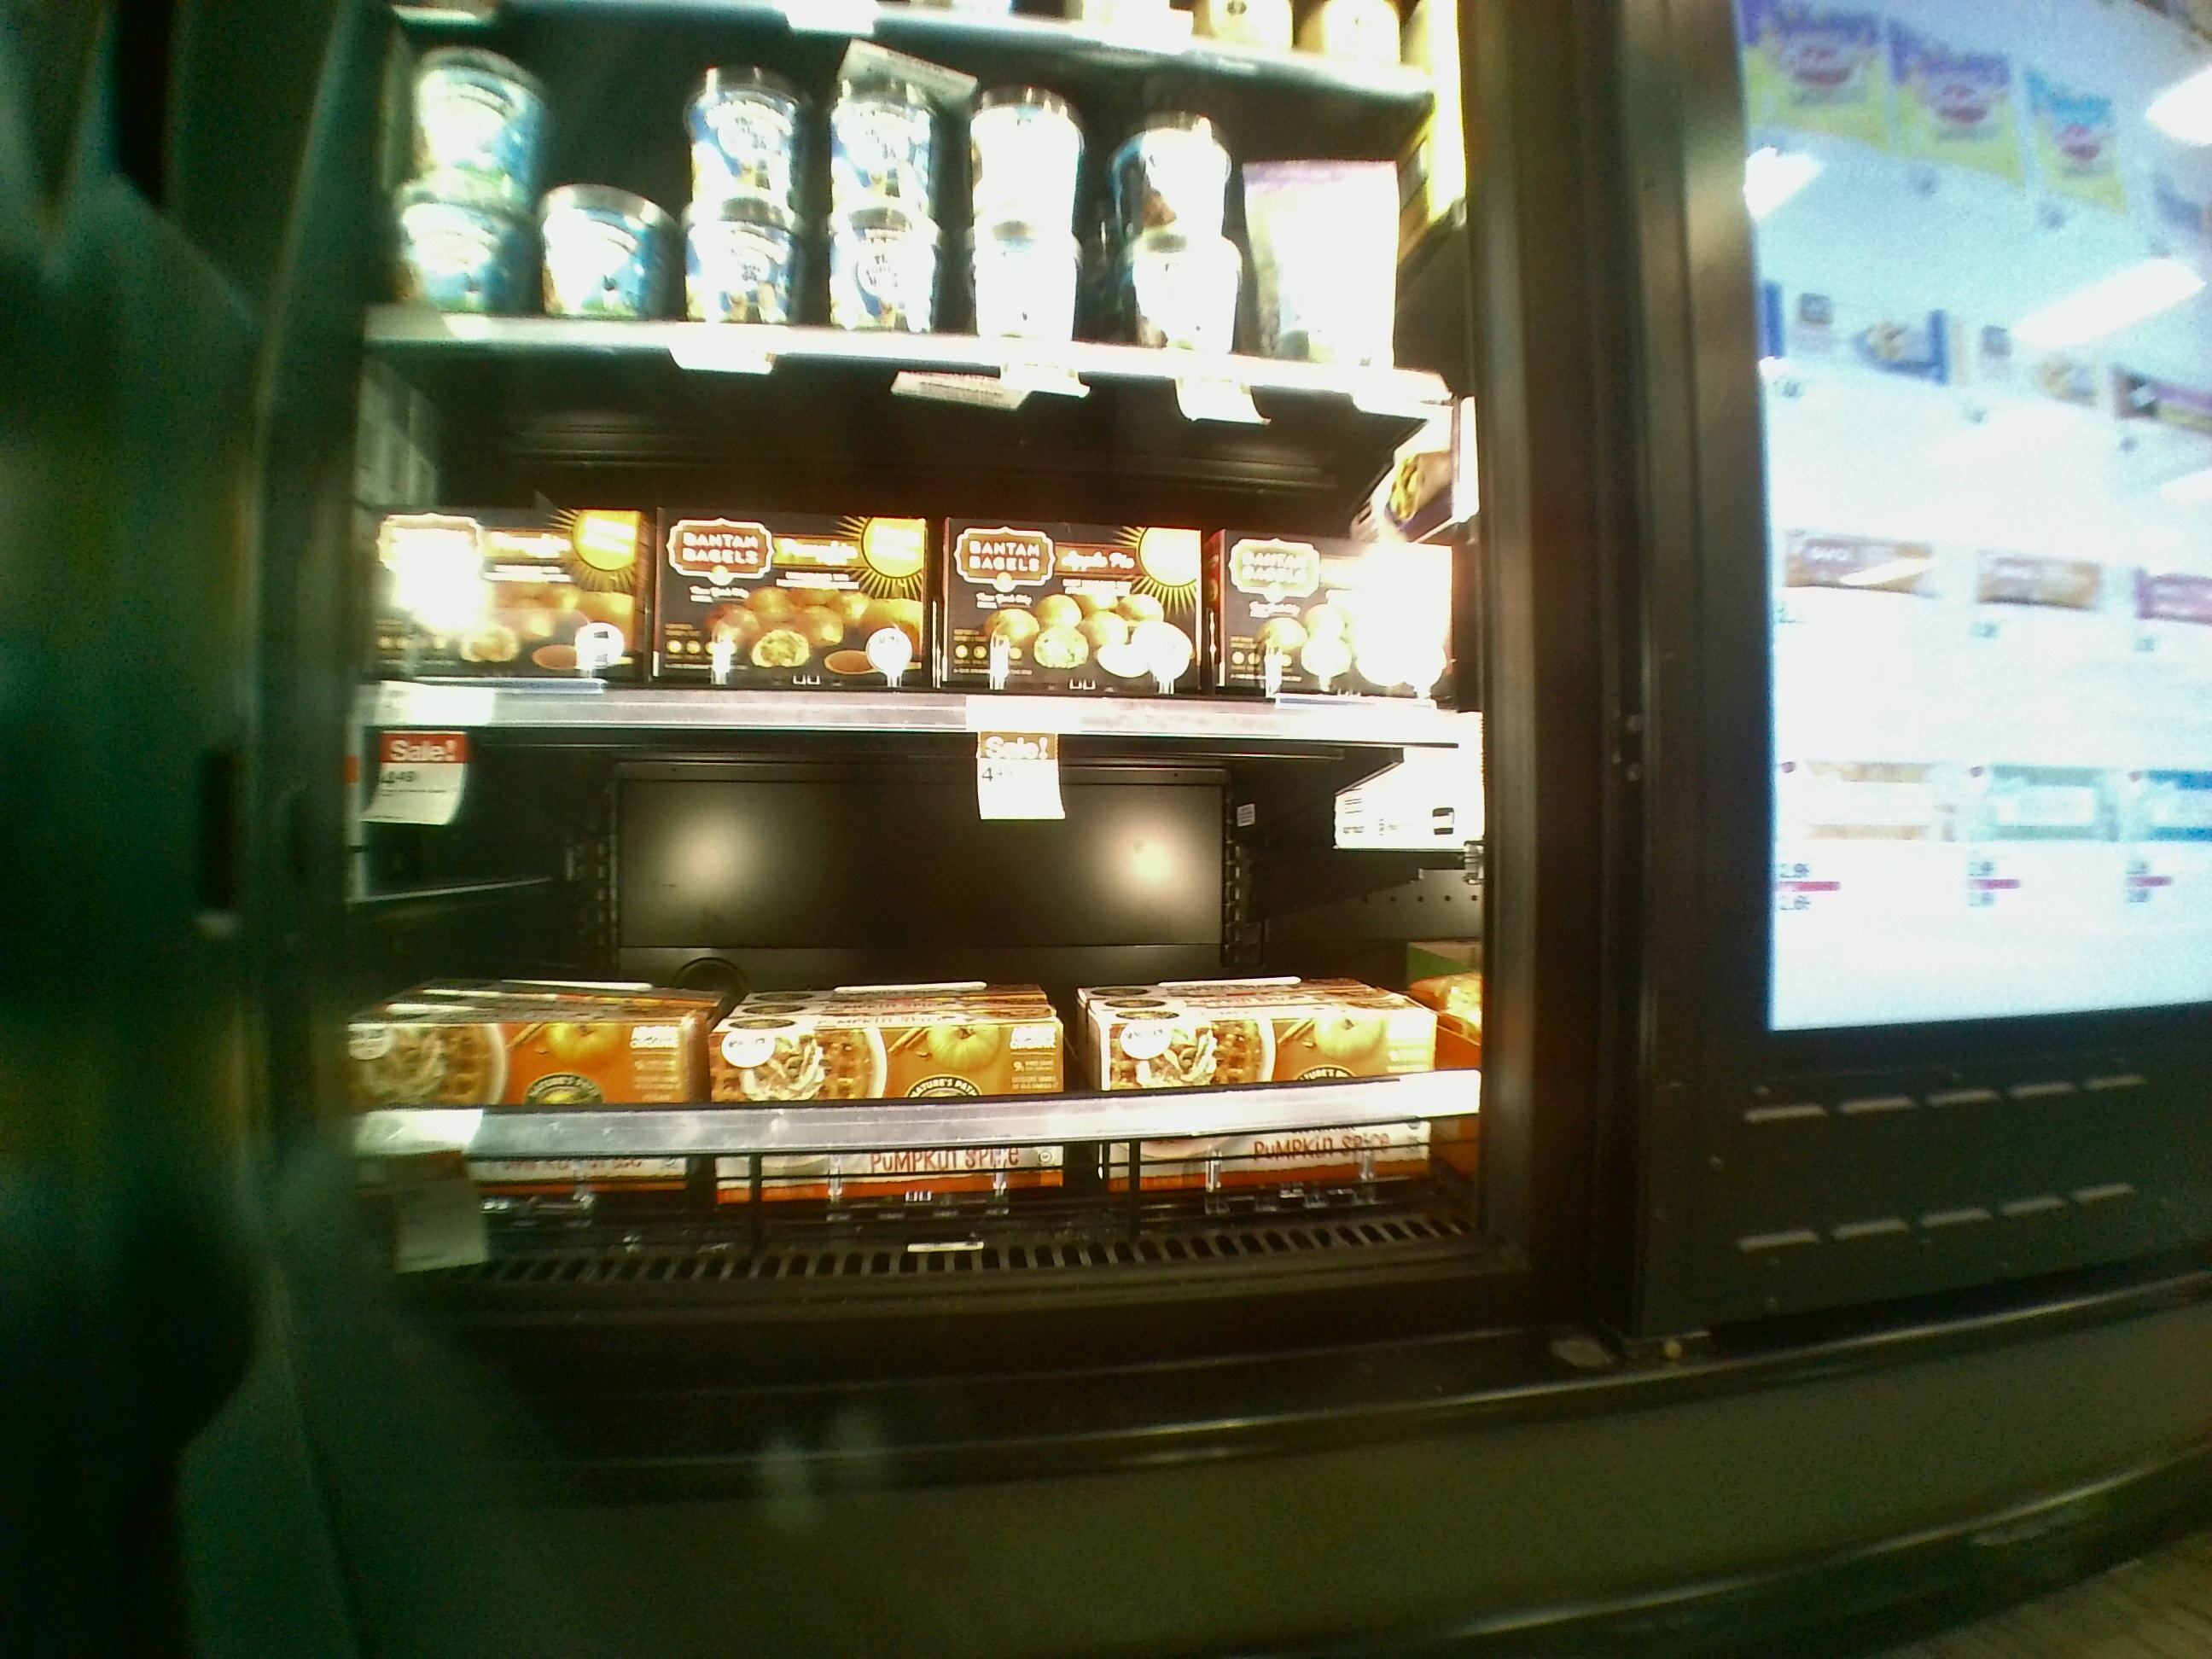shelf: (350, 716, 1498, 1239), (354, 331, 1468, 735)
